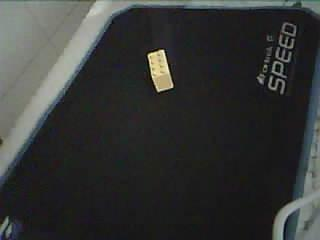lego: (145, 47, 174, 93)
